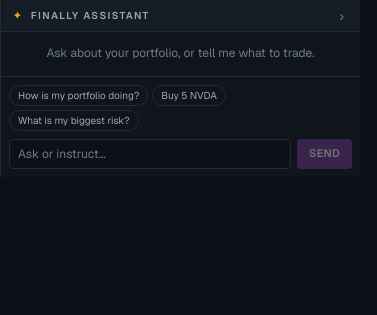
ChatPanel round trip › marks a failed action and does not refetch for it
Type "buy 1000 aapl" into the field named "Message the AI assistant" at [150, 154], box [9,138,291,168]
Then press Enter
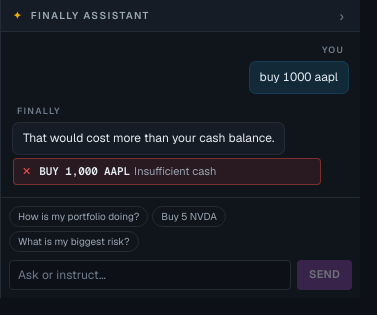
Expected: the text "BUY 1,000 AAPL" is shown, [39,164,130,178]
Expected: the text "Insufficient cash" is shown, [134,164,216,178]
